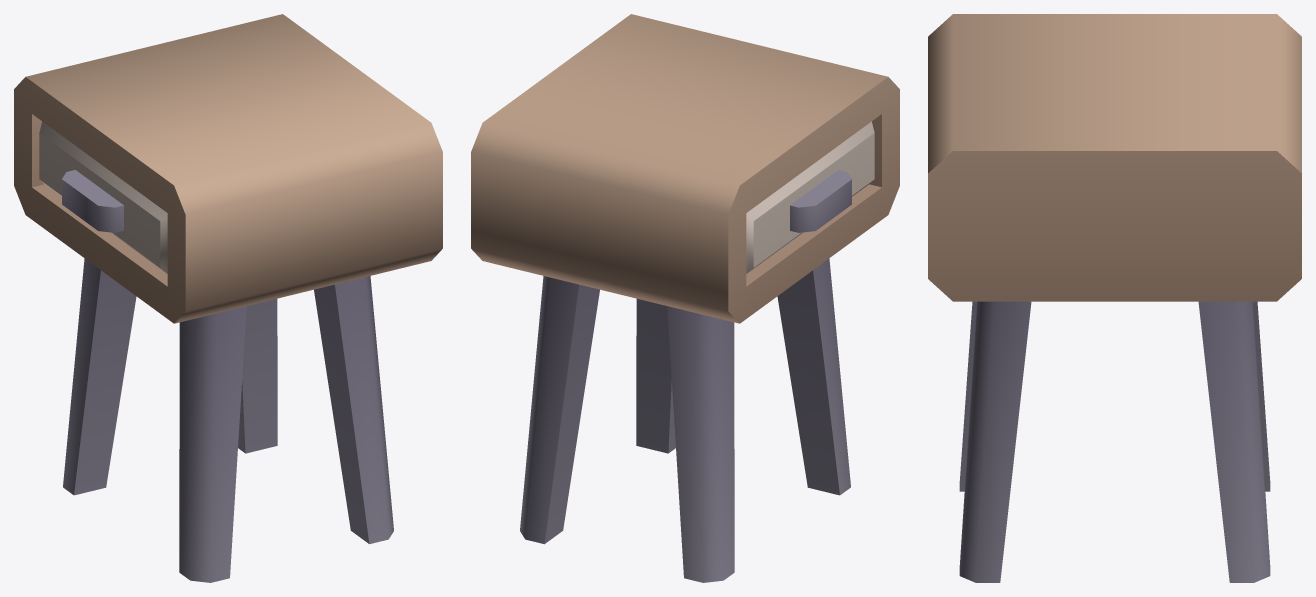
File: nightstand-drawer.glb
3 renders of one model, left to right at view 1: azimuth 30°, elevation 25°; view 2: azimuth 150°, elevation 25°; view 3: azimuth 270°, elevation 25°, orthographic. The views are drawn at different scales.
Visible parts, largest first — view 1: nightstand-drawer; view 2: nightstand-drawer; view 3: nightstand-drawer.
Part boxes in pixels (box(x1,y1,x2,y2)): nightstand-drawer: box(14, 14, 442, 582); nightstand-drawer: box(471, 14, 899, 582); nightstand-drawer: box(928, 14, 1301, 582).
Size of the model in its own units: 0.323 by 0.456 by 0.346.
